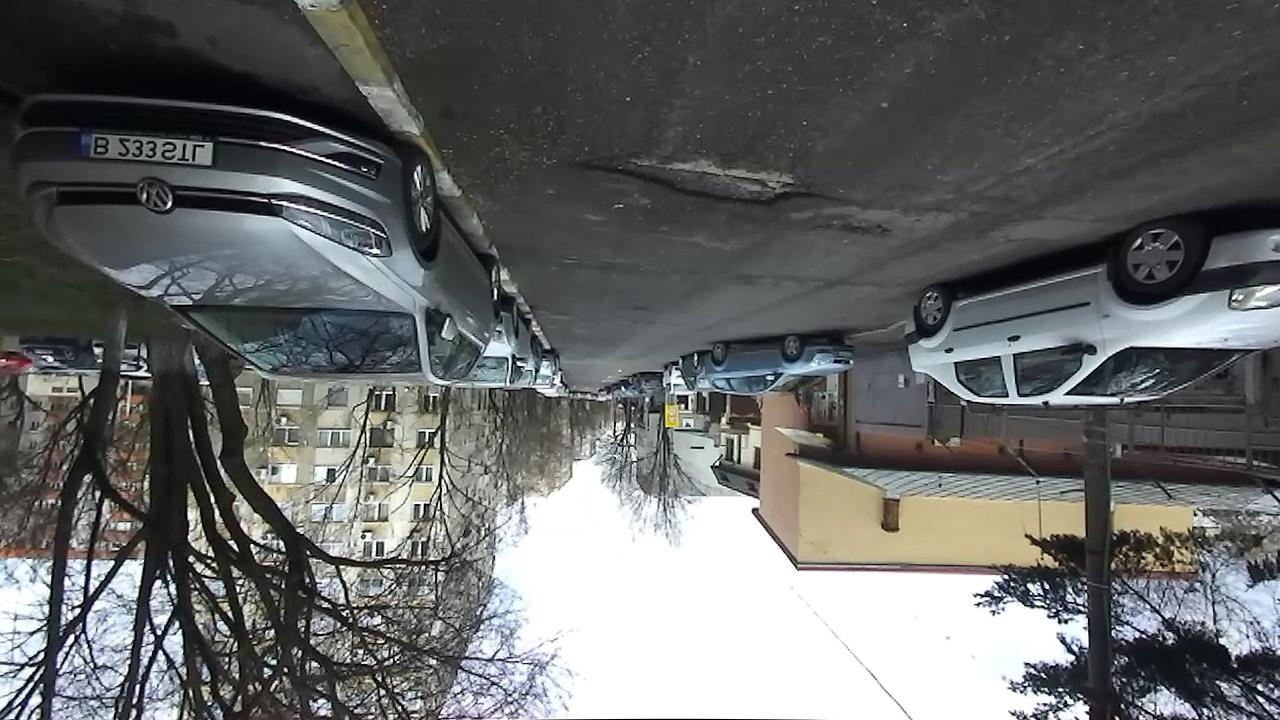pothole: (574, 144, 835, 209), (815, 214, 896, 243), (559, 254, 584, 266)
